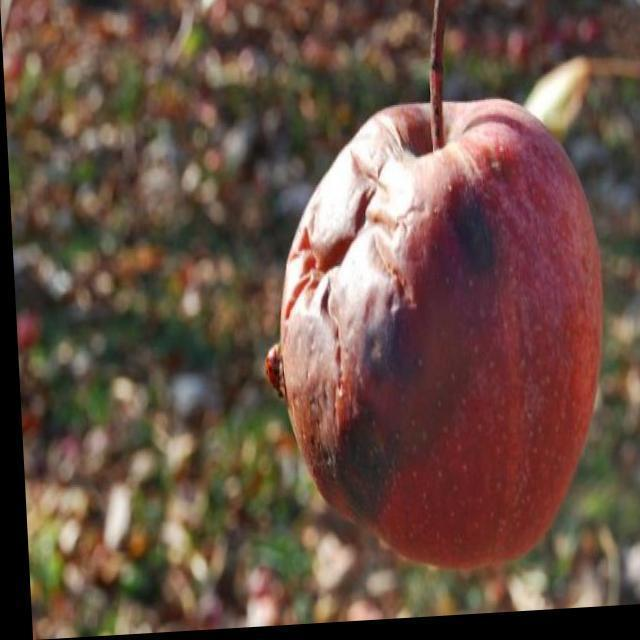apple: (278, 96, 604, 572)
